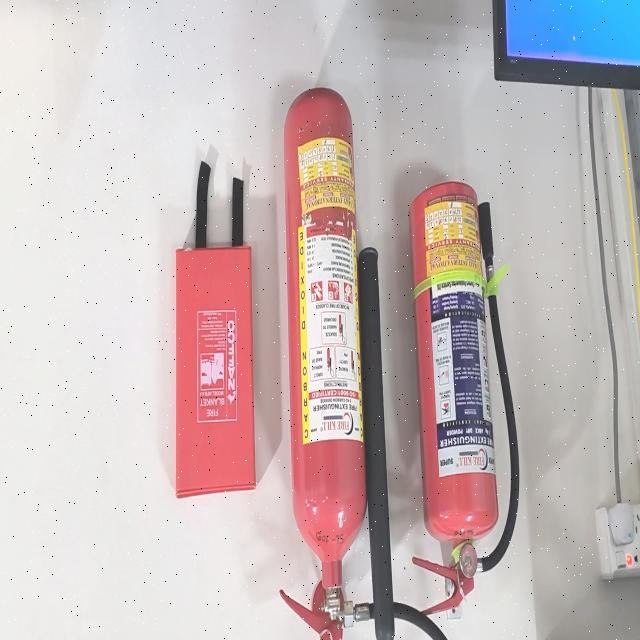Fire Extinguisher: (284, 89, 366, 618), (410, 182, 498, 551)
Monitor: (505, 0, 640, 66)
